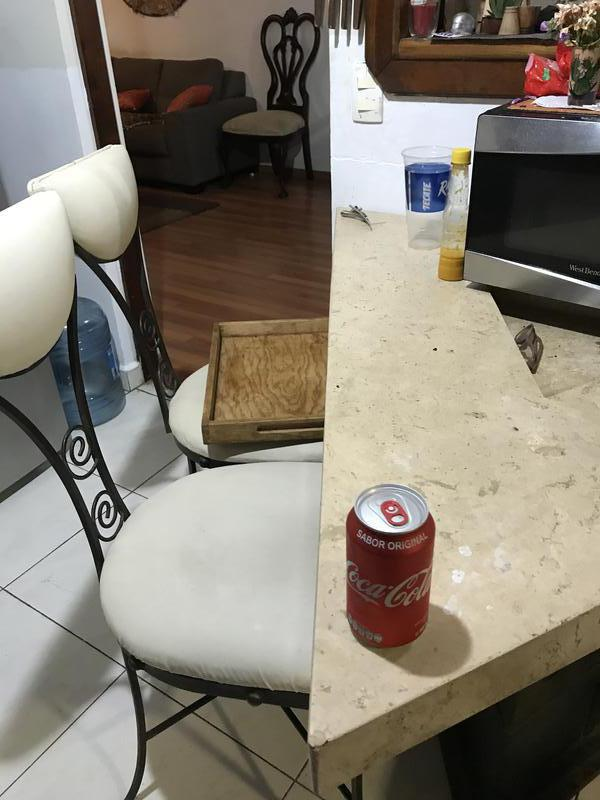coca_cola: (345, 484, 434, 650)
